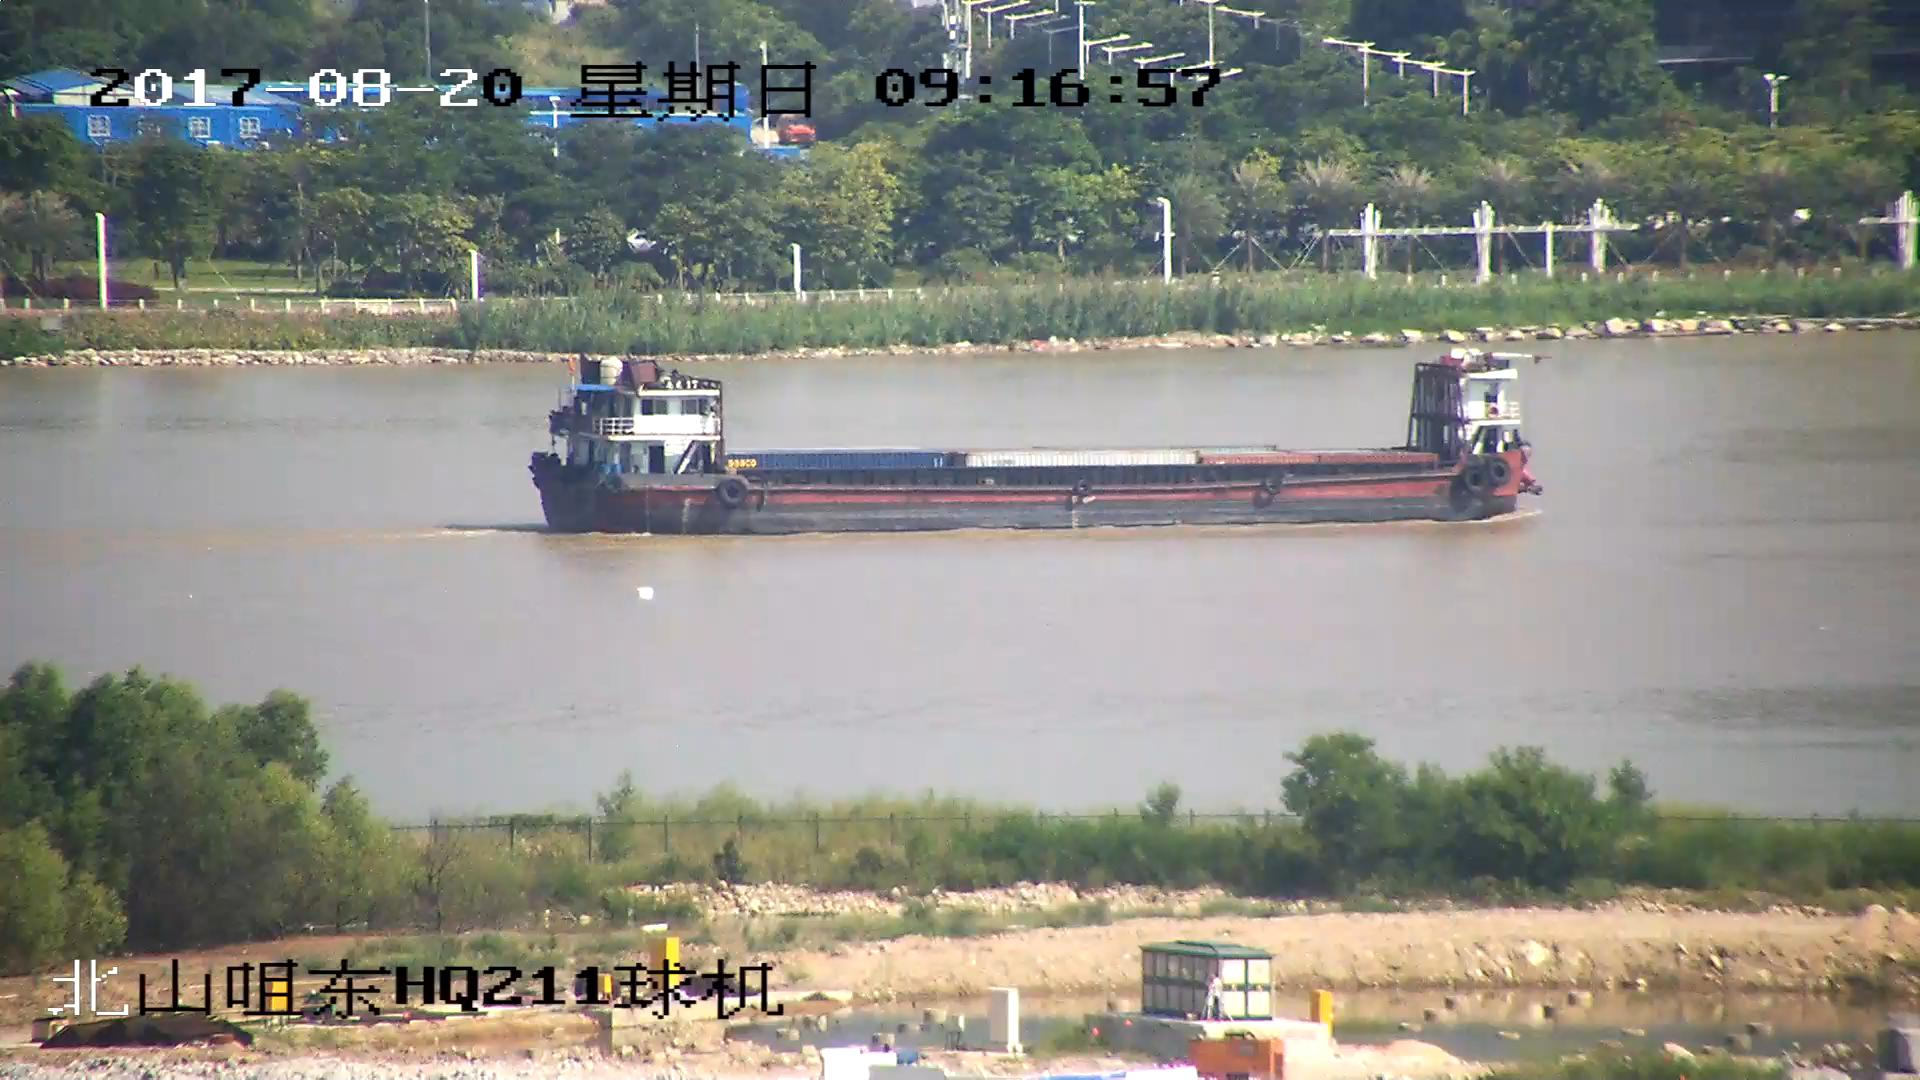general cargo ship: (520, 356, 1542, 534)
